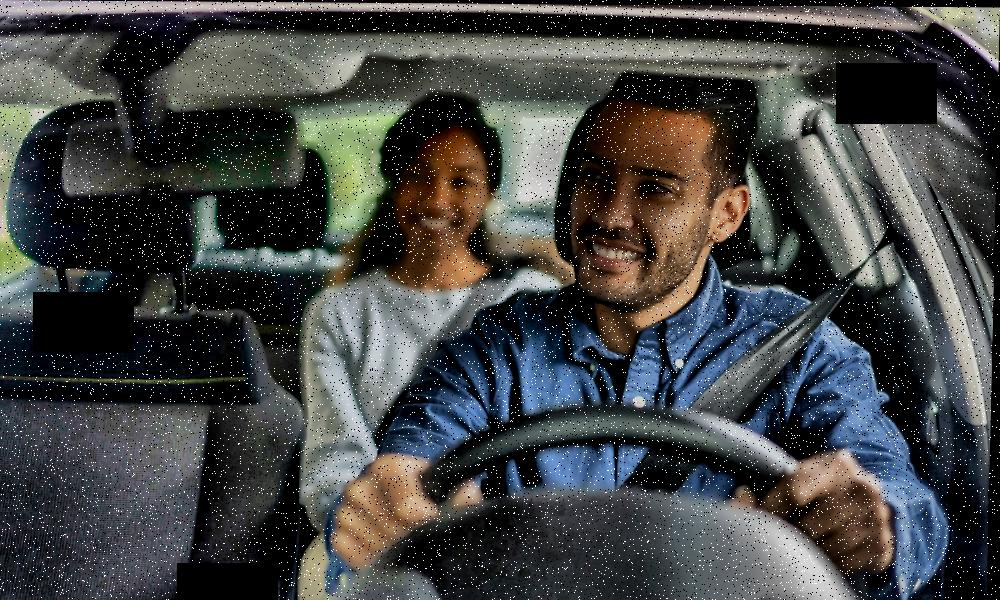seatbelt: (610, 220, 916, 493), (377, 234, 539, 435)
